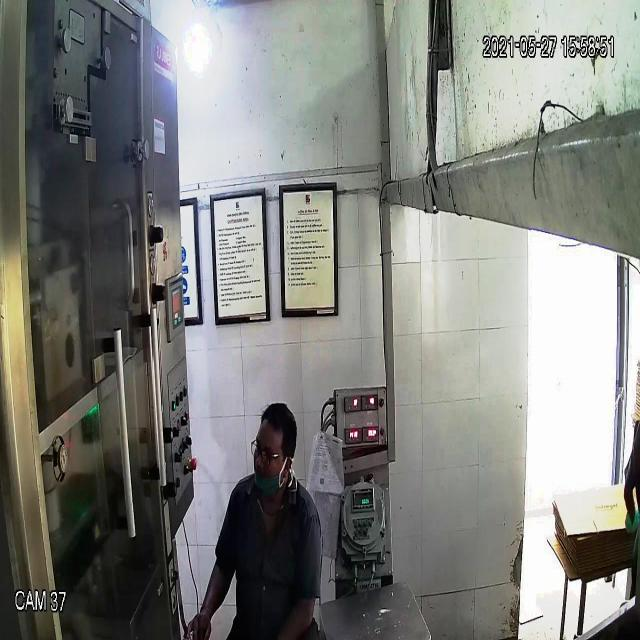glasses: (243, 434, 296, 469)
